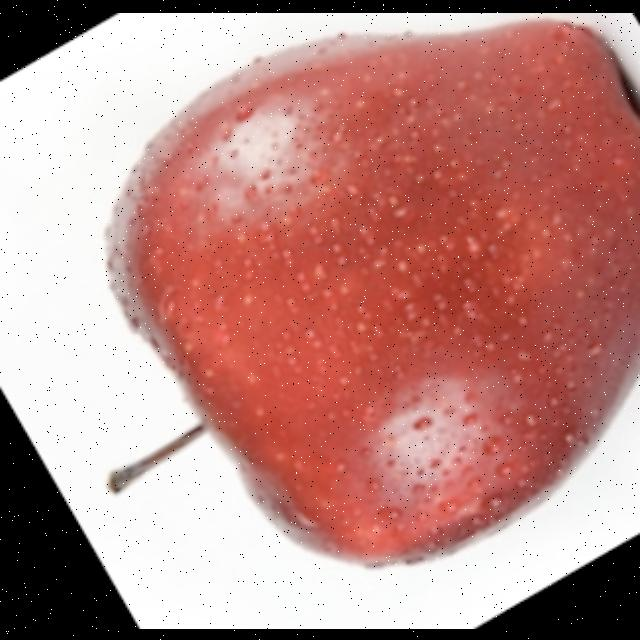Apel Segar: (116, 12, 640, 624)
